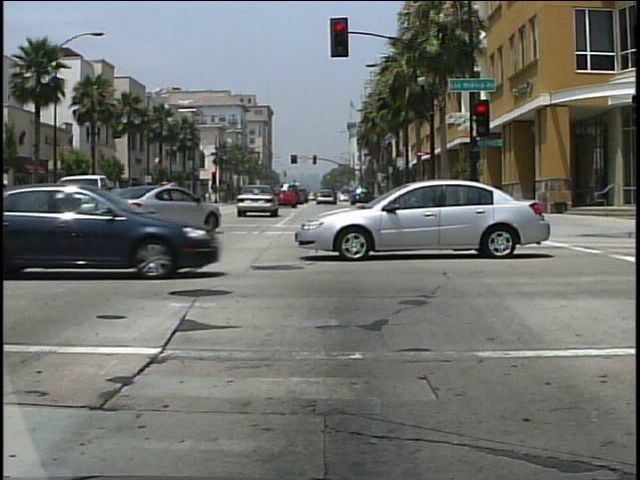person: (1, 177, 25, 231)
